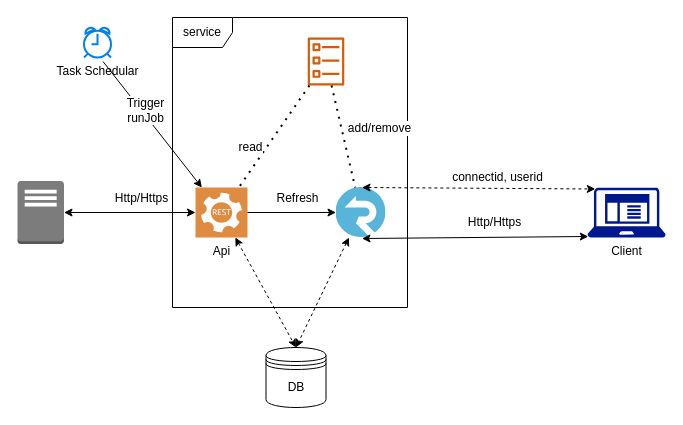
Image size: 683x425. Some labels were removed from this diagram. Each missing label, with the centre of its shape:
Connected User: (325,61)
Server: (40,212)
SignalR: (361,212)
